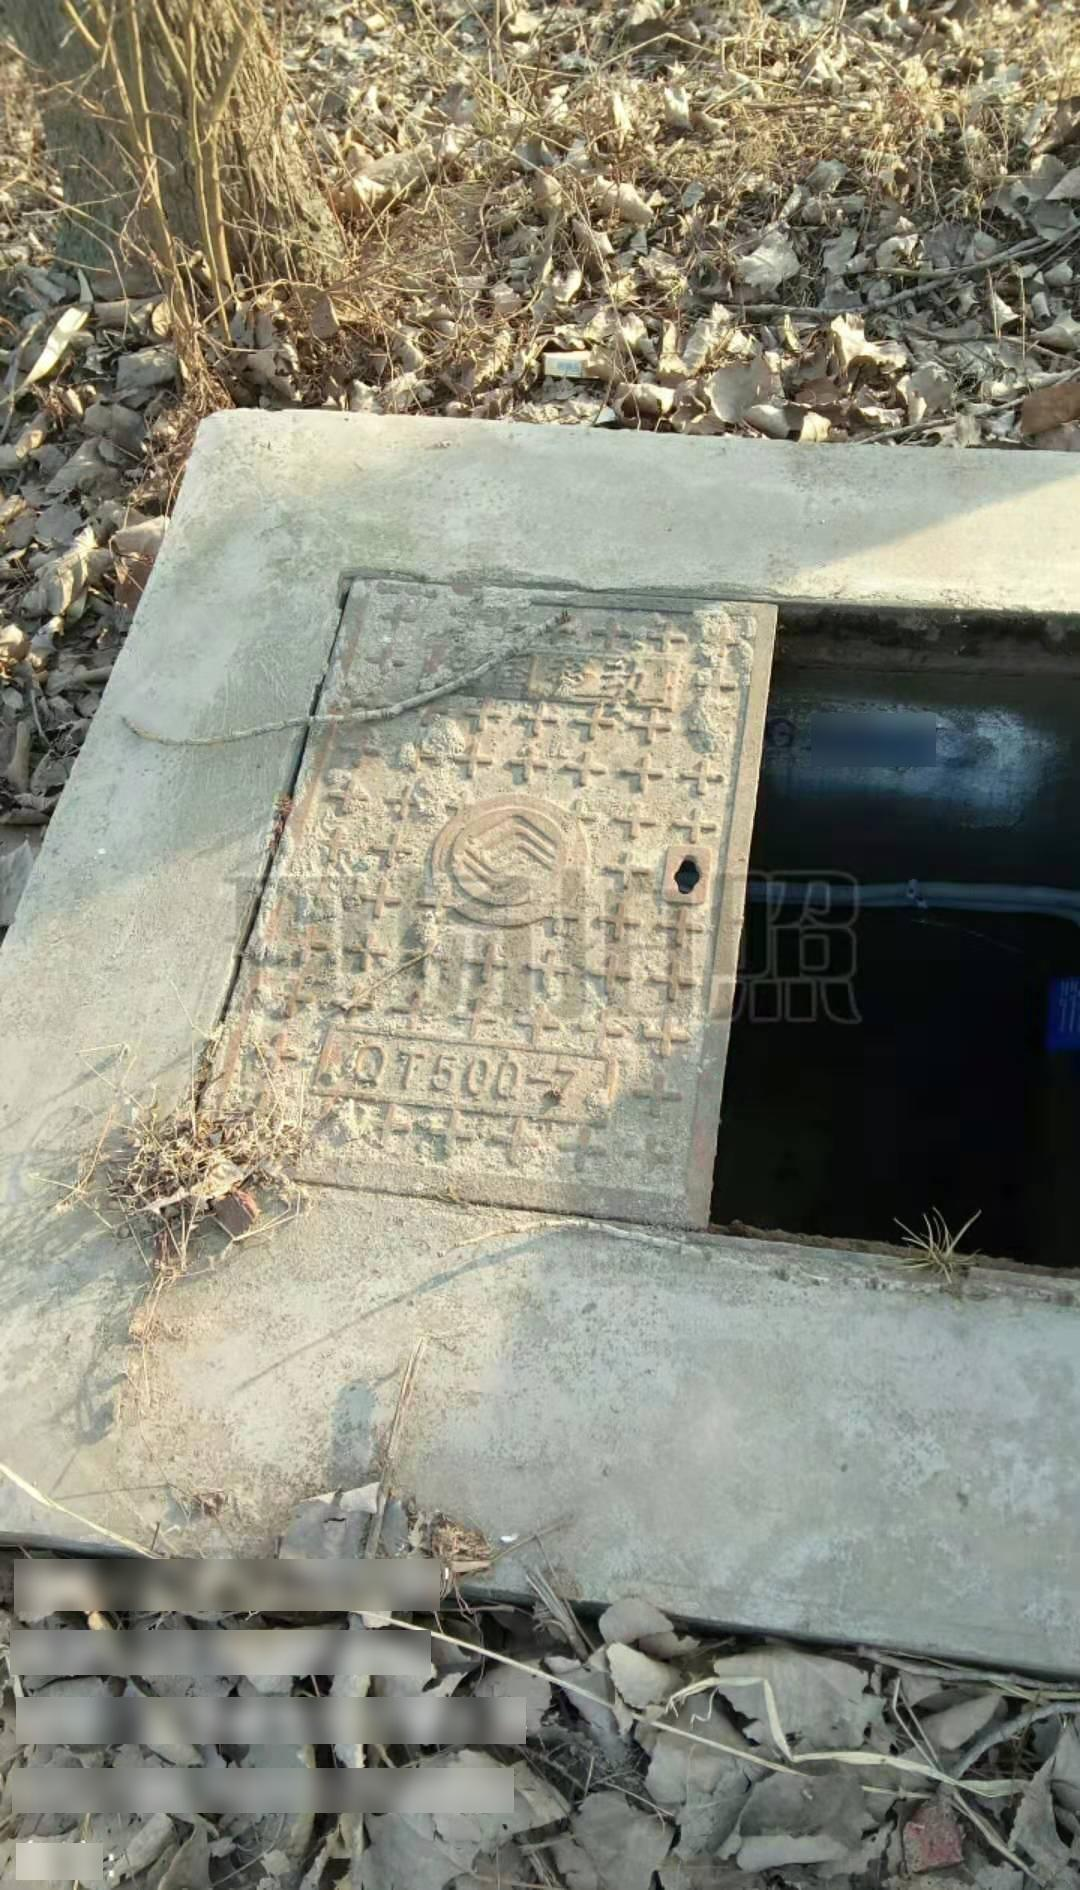wellcover: (212, 544, 1080, 1299)
